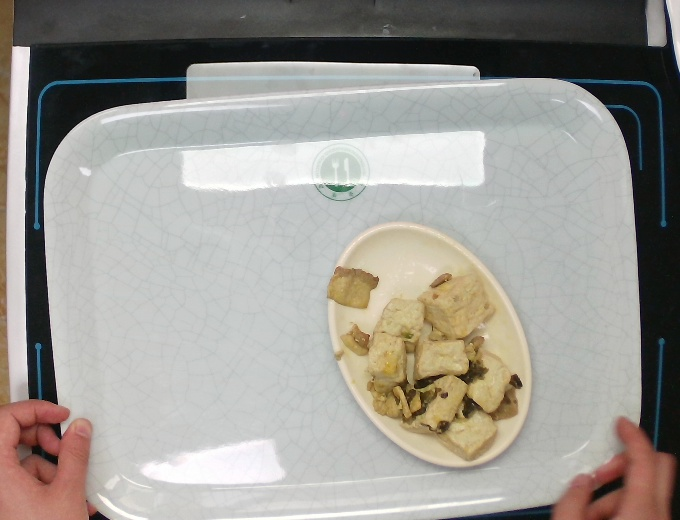JYsf-Tuo_Yuan_Wan: (324, 218, 537, 472)
